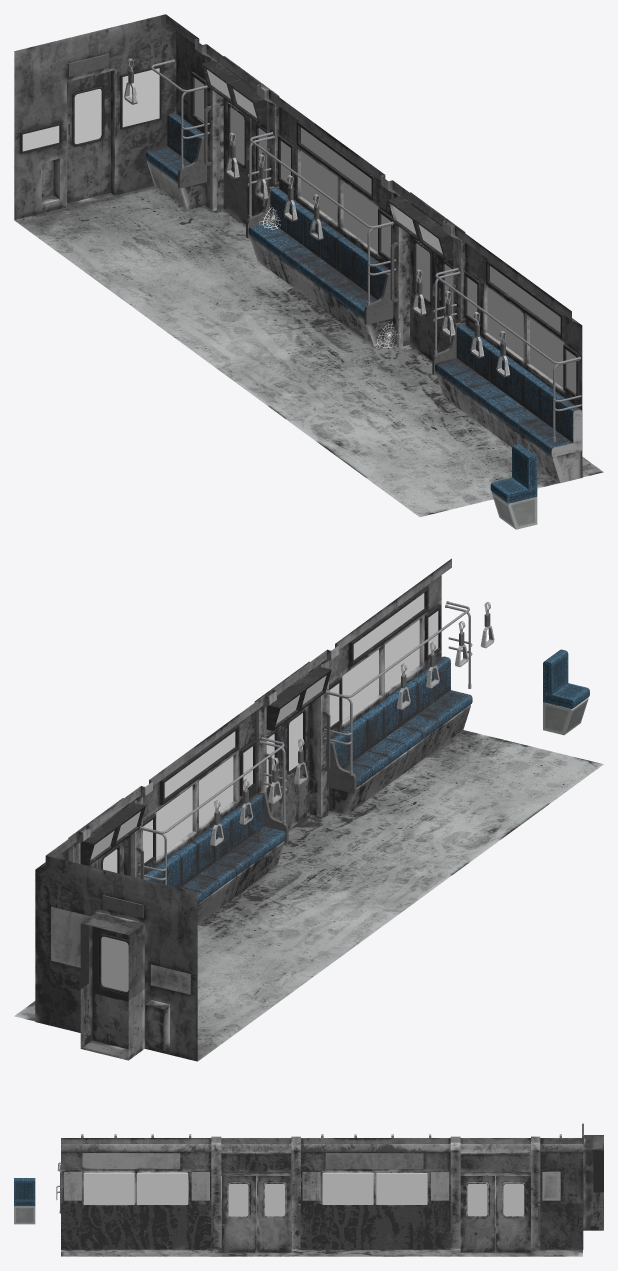
File: subway 1.fbx
3 renders of one model, top to bottom at view 1: azimuth 30°, elevation 25°; view 2: azimuth 150°, elevation 25°; view 3: azimuth 270°, elevation 25°, orthographic. The views are drawn at different scales.
Parts seen in each view (by area): view 1: subway1, glass, board, chair; view 2: subway1, glass, board, chair; view 3: subway1, glass, chair.
Part boxes in pixels (x1,y1,x2,y2): subway1: [14, 14, 603, 516]; glass: [74, 89, 564, 387]; board: [22, 68, 576, 393]; chair: [490, 444, 537, 529]; subway1: [14, 558, 603, 1061]; glass: [101, 620, 419, 991]; board: [90, 593, 438, 862]; chair: [543, 649, 589, 735]; subway1: [56, 1123, 603, 1256]; glass: [83, 1173, 524, 1216]; chair: [14, 1178, 35, 1224].
Size of the model in its own units: 11.8 by 10.48 by 50.88.
